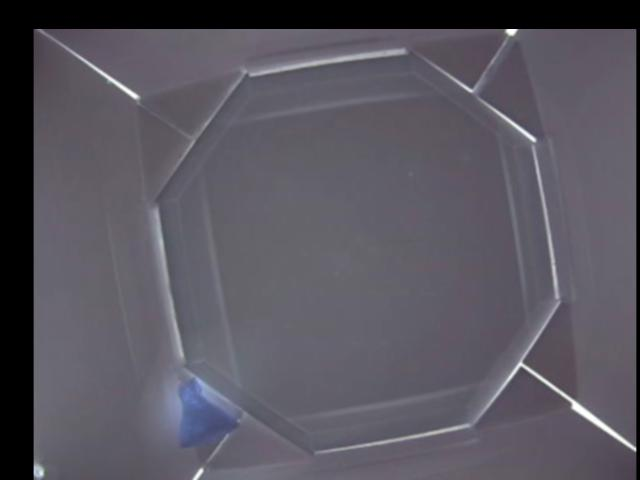Mooli: (176, 375, 241, 449)
